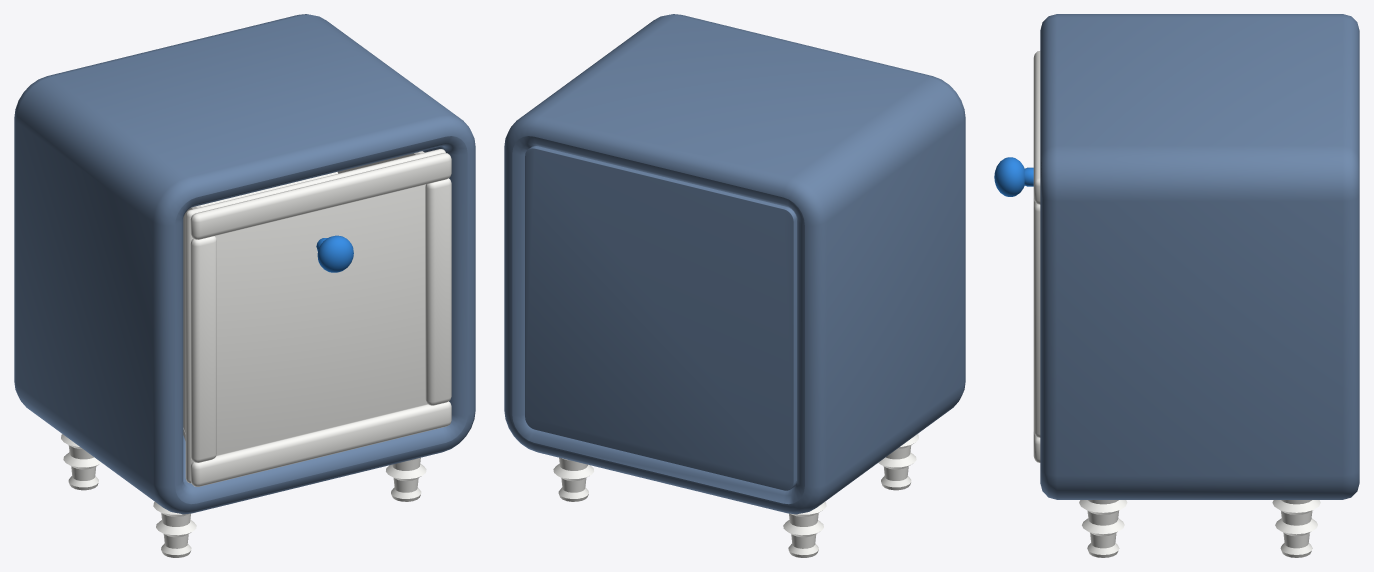
Rendered from criado_basculante_azul.glb.
3 renders of one model, left to right at view 1: azimuth 30°, elevation 25°; view 2: azimuth 150°, elevation 25°; view 3: azimuth 270°, elevation 25°, orthographic. The views are drawn at different scales.
Parts seen in each view (by area): view 1: criado_basculante_azul, cesto; view 2: criado_basculante_azul; view 3: criado_basculante_azul, cesto.
Part boxes in pixels (bbox=[...]): criado_basculante_azul: bbox=[14, 14, 475, 557]; cesto: bbox=[183, 149, 451, 486]; criado_basculante_azul: bbox=[504, 14, 965, 557]; criado_basculante_azul: bbox=[1040, 14, 1359, 557]; cesto: bbox=[994, 51, 1040, 462].
Bounding box in the file's own units: 0.46 × 0.54 × 0.4346.
1 material, 1 textured.
